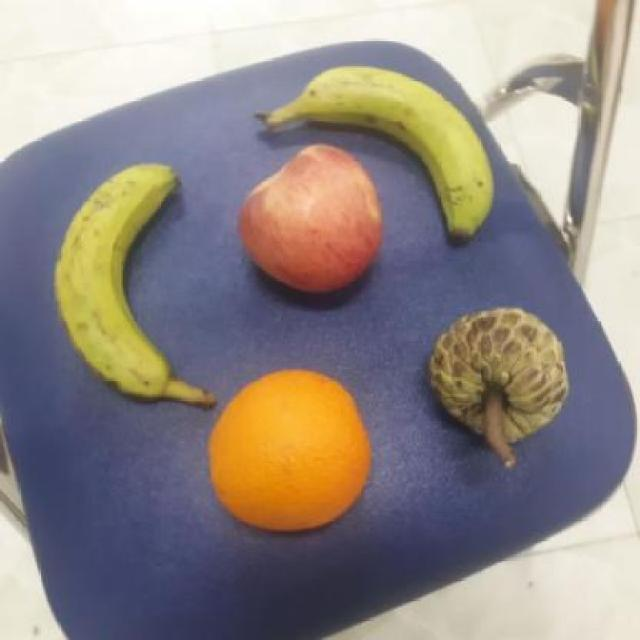apple: (228, 143, 379, 299)
banana: (47, 160, 211, 414), (278, 60, 498, 248)
oren: (204, 368, 373, 540)
sugar apple: (420, 305, 574, 446)
